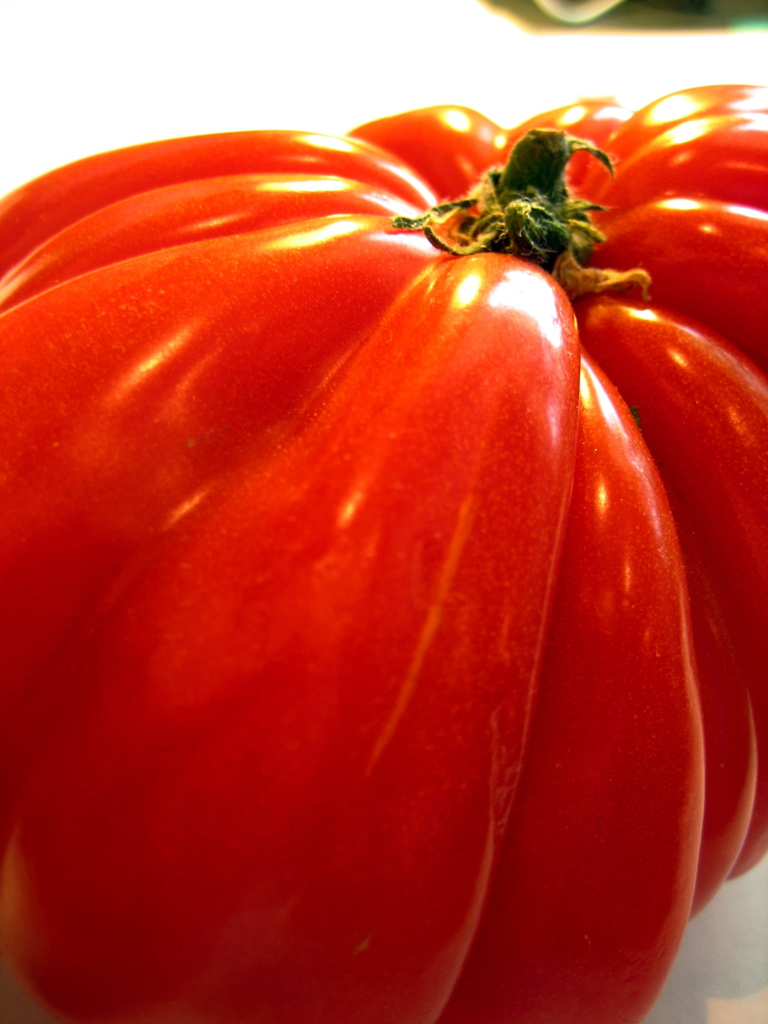Tomato: (2, 83, 767, 1023)
